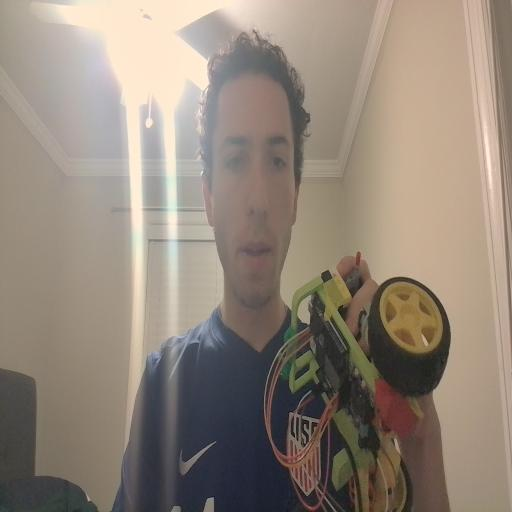green LEGO minifig: (276, 326, 300, 382)
